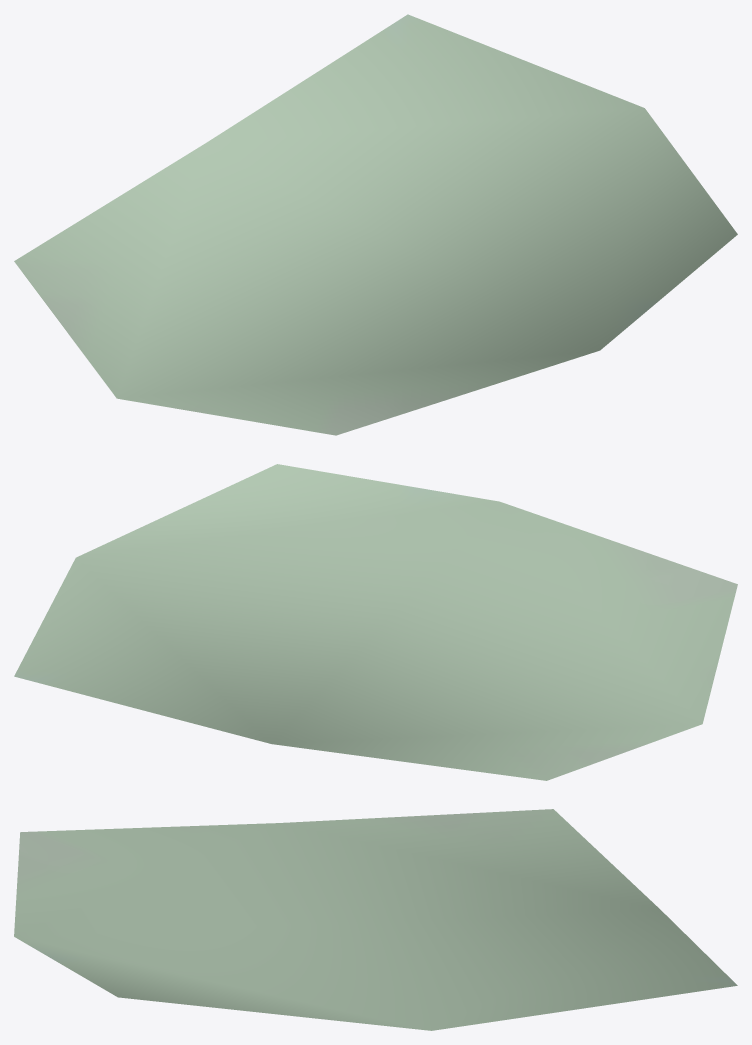
Rendered from TROLLHOLE02_HOLECAP192.fbx.
The picture shows the model from 3 angles, top to bottom: view 1: azimuth 30°, elevation 25°; view 2: azimuth 150°, elevation 25°; view 3: azimuth 270°, elevation 25°; orthographic projection. The views are drawn at different scales.
Visible parts, largest first — view 1: TROLLHOLE02_HOLECAP192; view 2: TROLLHOLE02_HOLECAP192; view 3: TROLLHOLE02_HOLECAP192.
Boxes of the visible parts, x1=… form: TROLLHOLE02_HOLECAP192: x1=14, y1=14, x2=737, y2=435; TROLLHOLE02_HOLECAP192: x1=14, y1=464, x2=737, y2=780; TROLLHOLE02_HOLECAP192: x1=14, y1=809, x2=737, y2=1030.
Bounding box in the file's own units: 11696 × 1694 × 12057.
Materials: 1 (1 with a texture image).
